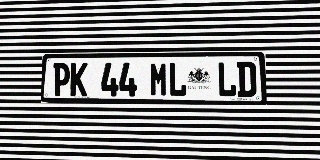4: (119, 62, 137, 96), (101, 63, 119, 96)
D: (237, 62, 257, 97)
K: (70, 63, 88, 96)
L: (217, 62, 237, 97), (168, 62, 187, 97)
M: (150, 62, 168, 97)
P: (52, 63, 70, 96)
